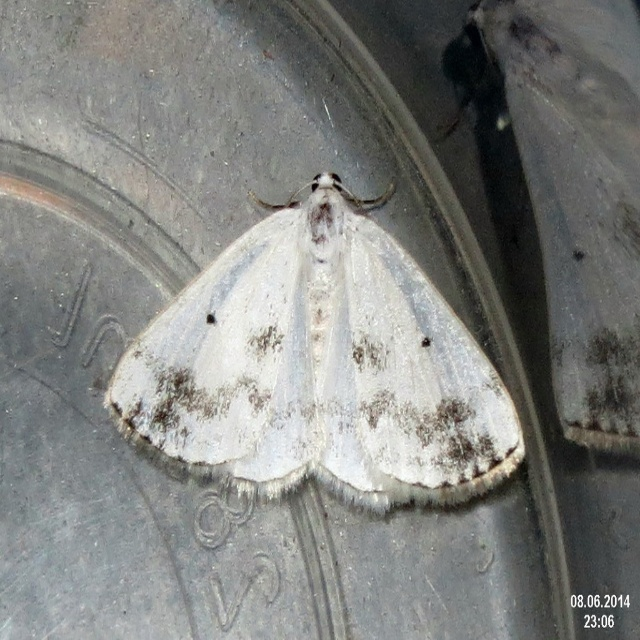Moths and butterflies: (105, 169, 526, 517), (438, 0, 639, 455)
